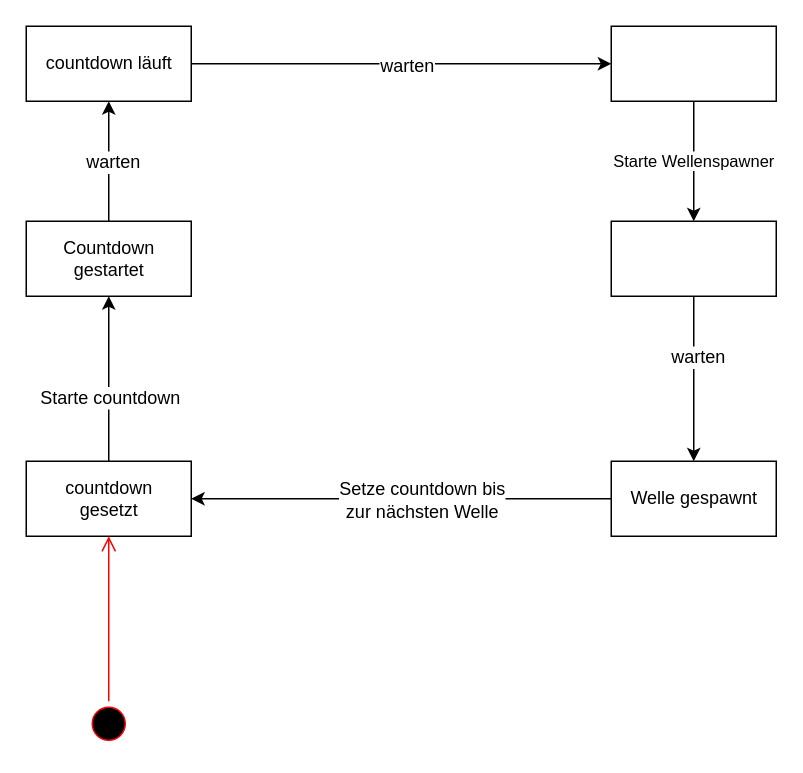
This 803x773 diagram has some shape labels left out. Each missing label, with the box of its shape:
countdown abgelaufen: (610, 25, 776, 101)
Welle spawnen: (610, 220, 776, 296)
